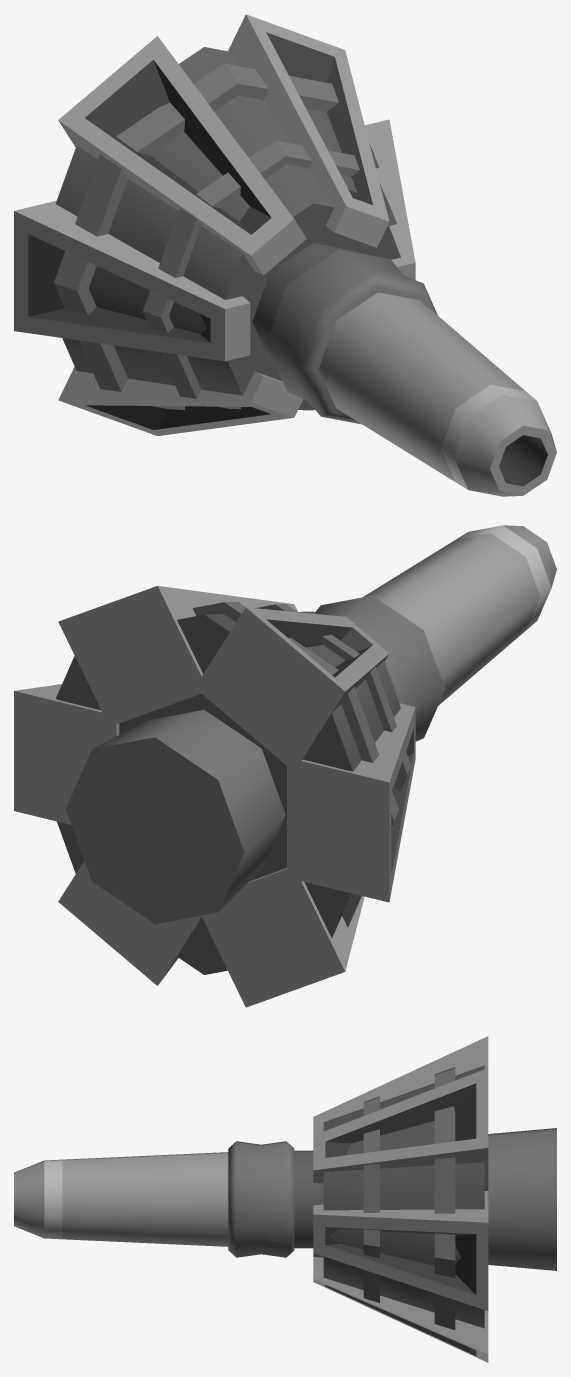
File: turret_004.fbx
The picture shows the model from 3 angles, top to bottom: view 1: azimuth 30°, elevation 25°; view 2: azimuth 150°, elevation 25°; view 3: azimuth 270°, elevation 25°; orthographic projection. The views are drawn at different scales.
Parts seen in each view (by area): view 1: turret_004; view 2: turret_004; view 3: turret_004.
Boxes of the visible parts, x1=… form: turret_004: x1=14, y1=14, x2=556, y2=496; turret_004: x1=14, y1=525, x2=556, y2=1007; turret_004: x1=14, y1=1036, x2=556, y2=1362.
Size of the model in its own units: 168 by 286 by 172.
